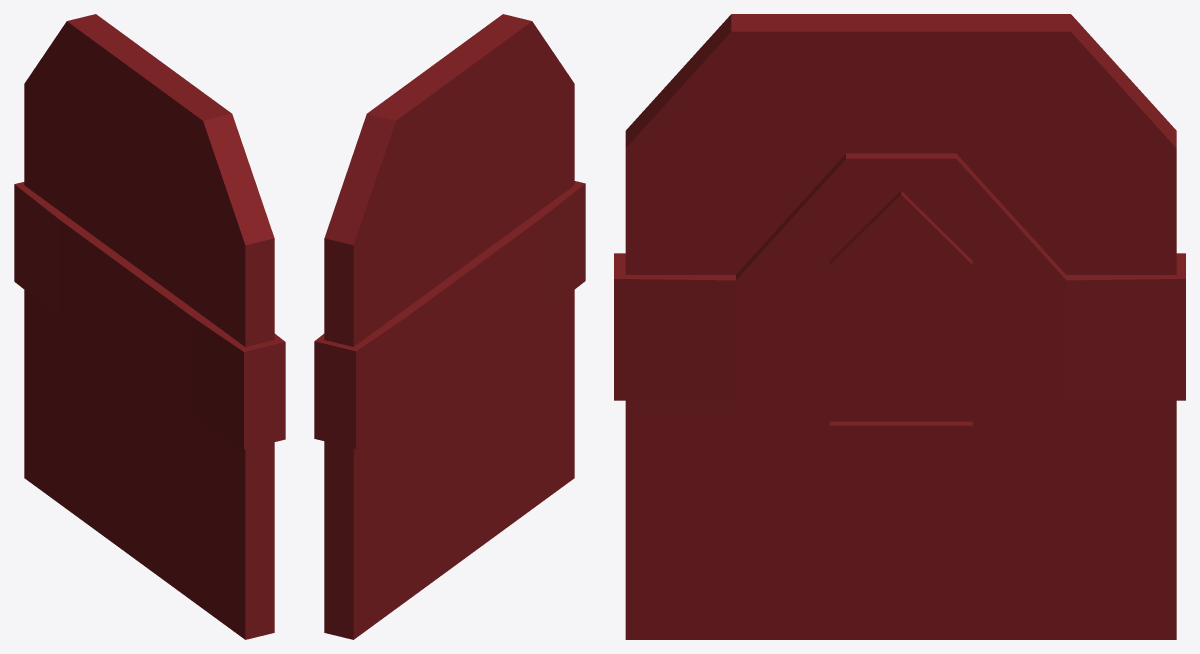
Rendered from Door(2.0).fbx.
The picture shows the model from 3 angles, left to right: view 1: azimuth 30°, elevation 25°; view 2: azimuth 150°, elevation 25°; view 3: azimuth 270°, elevation 25°; orthographic projection. The views are drawn at different scales.
Visible parts, largest first — view 1: Door; view 2: Door; view 3: Door.
Boxes of the visible parts, x1,y1,x2,y2 form: Door: [14, 14, 285, 639]; Door: [314, 14, 585, 639]; Door: [614, 14, 1185, 639].
Size of the model in its own units: 83.94 by 730 by 622.
